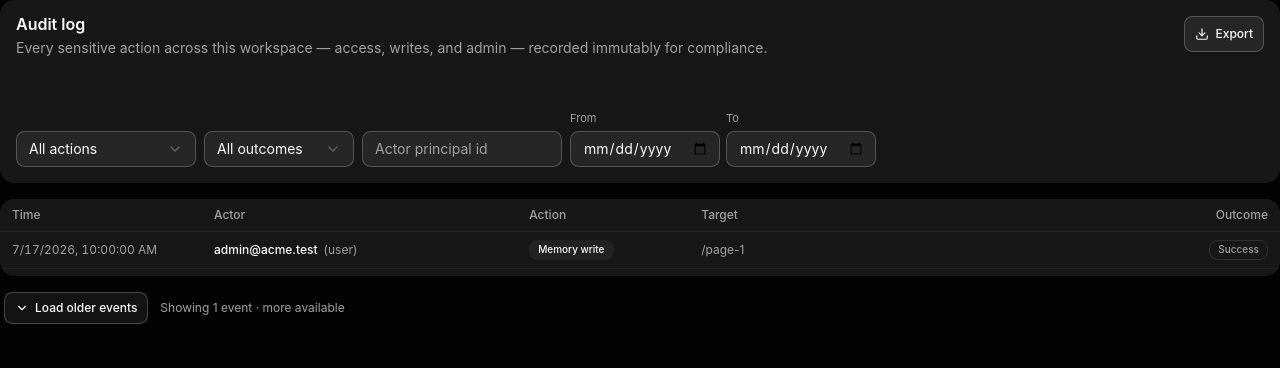
Test: AuditView › pages the trail with the cursor instead of telling the user to narrow the filters
Check: the text "/page-1" is shown, box [701,242,744,256]
Check: the message shows "more available", box [252,300,345,314]
Click the button "Load older events" at (76, 308), box [4,292,148,324]
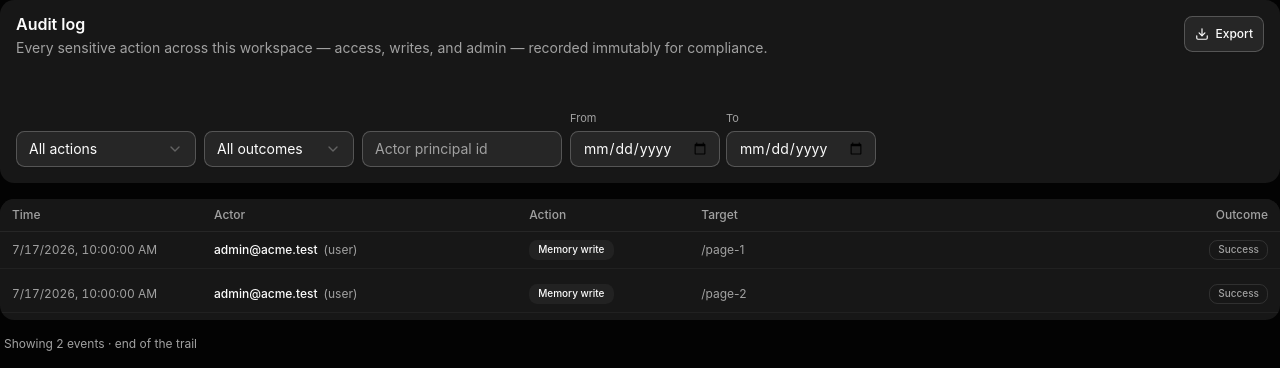
Check: the text "/page-1" is shown, box [701,242,744,256]
Check: the text "/page-2" is shown, box [701,286,746,300]
